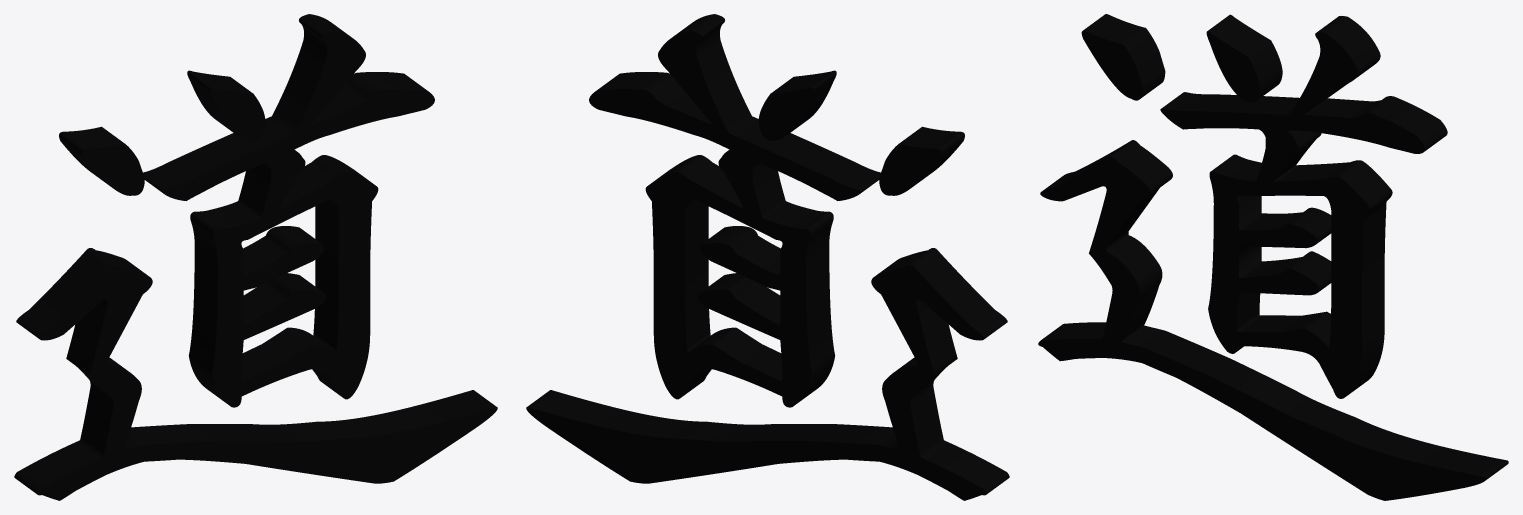
The model's file is dou.obj.
3 views of the same model, side by side, from view 1: azimuth 30°, elevation 25°; view 2: azimuth 150°, elevation 25°; view 3: azimuth 330°, elevation 25° (orthographic). The views are drawn at different scales.
Parts seen in each view (by area): view 1: テキスト.002; view 2: テキスト.002; view 3: テキスト.002.
Boxes of the visible parts, x1,y1,x2,y2 form: テキスト.002: [14, 14, 497, 500]; テキスト.002: [526, 14, 1009, 500]; テキスト.002: [1038, 14, 1508, 500].
Bounding box in the file's own units: 18.26 × 17.65 × 1.6.
Materials: 1 (1 with a texture image).
